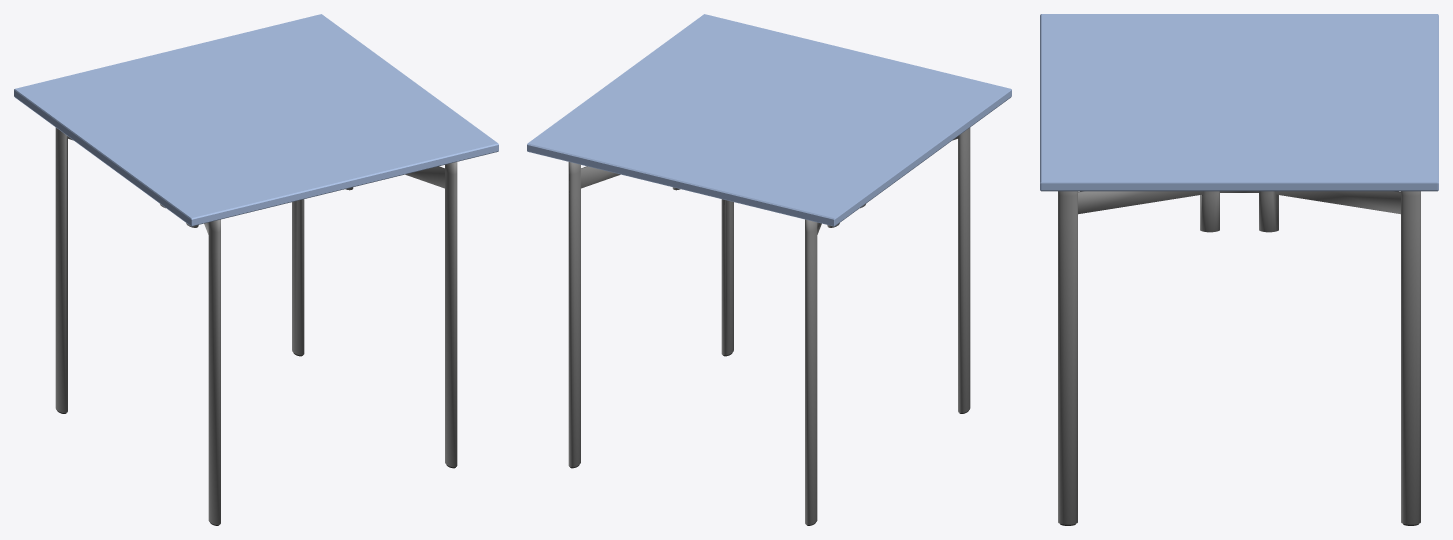
The model's file is sh-scopia-metal-glass-table.glb.
3 renders of one model, left to right at view 1: azimuth 30°, elevation 25°; view 2: azimuth 150°, elevation 25°; view 3: azimuth 270°, elevation 25°, orthographic. The views are drawn at different scales.
Visible parts, largest first — view 1: toptable_Cube.001, potes_table_Cylinder; view 2: toptable_Cube.001, potes_table_Cylinder; view 3: toptable_Cube.001, potes_table_Cylinder.
Boxes of the visible parts, left/top/right/bottom form: toptable_Cube.001: left=14, top=14, right=498, bottom=226; potes_table_Cylinder: left=55, top=127, right=457, bottom=524; toptable_Cube.001: left=527, top=14, right=1011, bottom=226; potes_table_Cylinder: left=568, top=127, right=970, bottom=524; toptable_Cube.001: left=1040, top=14, right=1438, bottom=191; potes_table_Cylinder: left=1058, top=191, right=1420, bottom=524.
Size of the model in its own units: 1 by 1 by 1.
